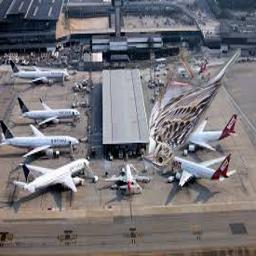Sparrow: (142, 48, 241, 171)
